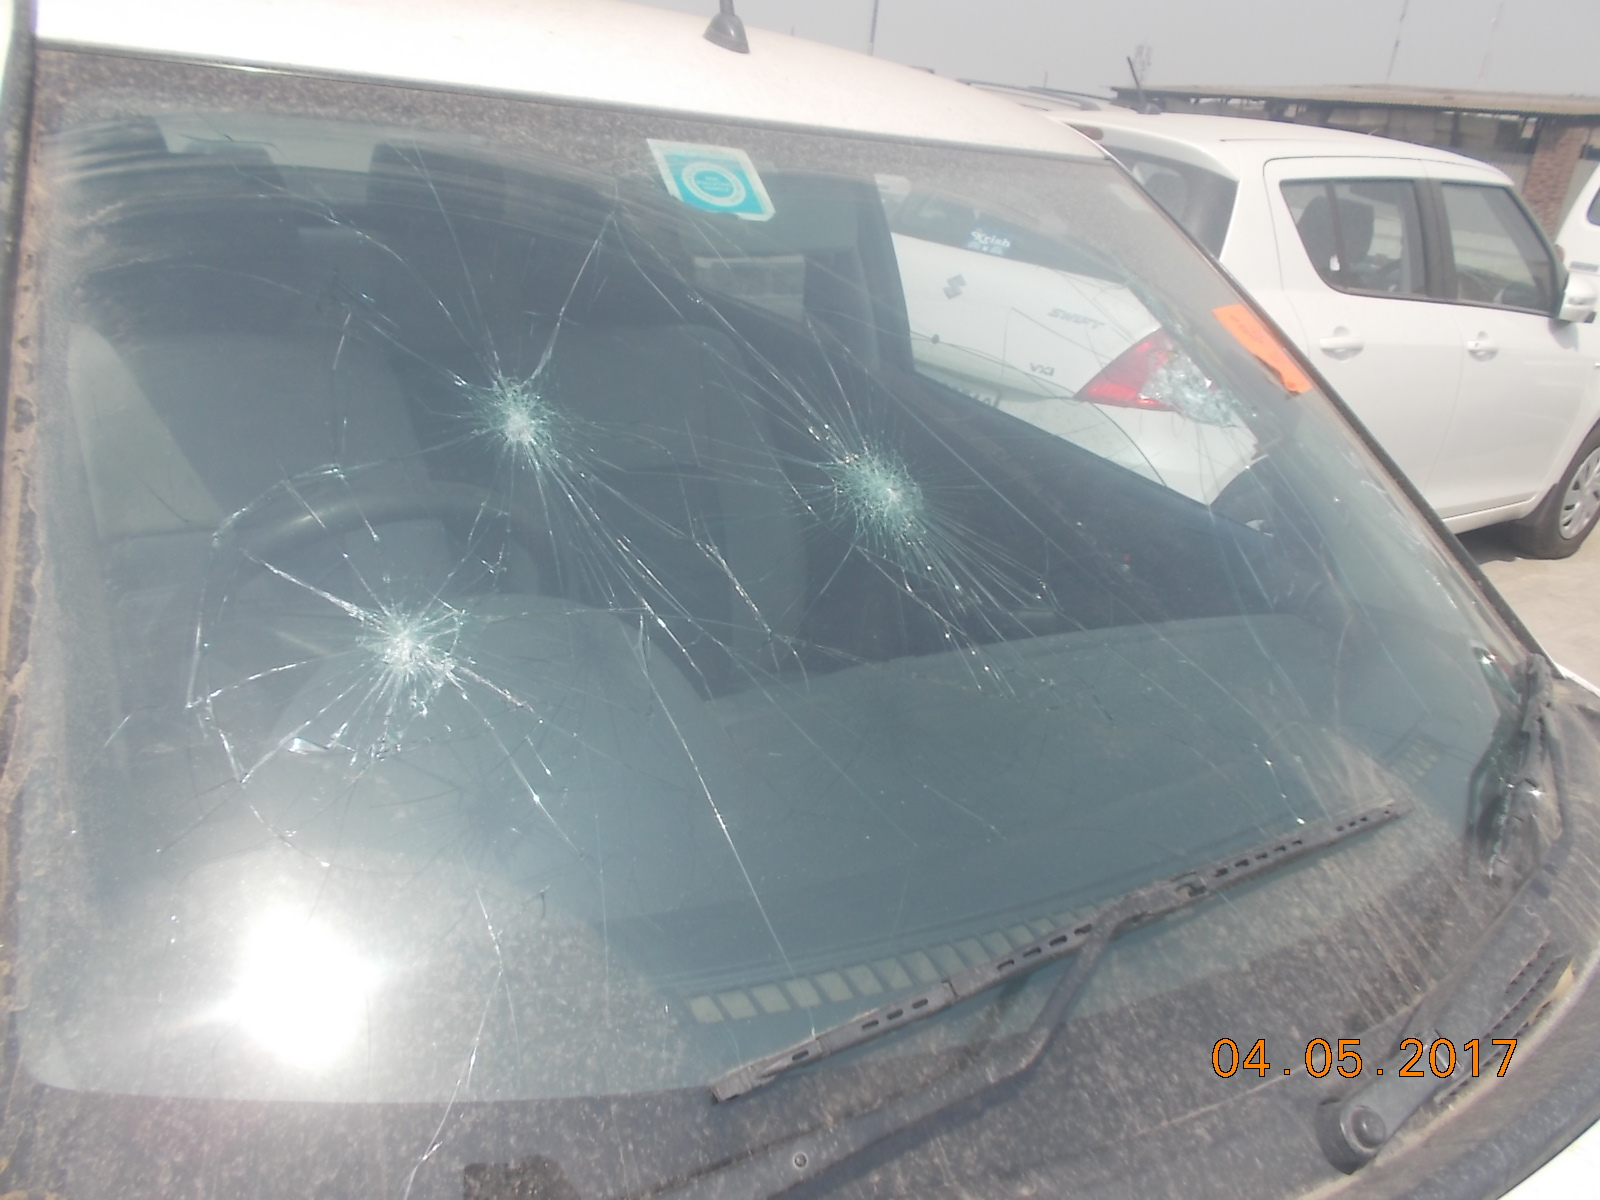Shatter: (252, 579, 566, 795), (420, 335, 632, 529), (755, 381, 934, 587)
